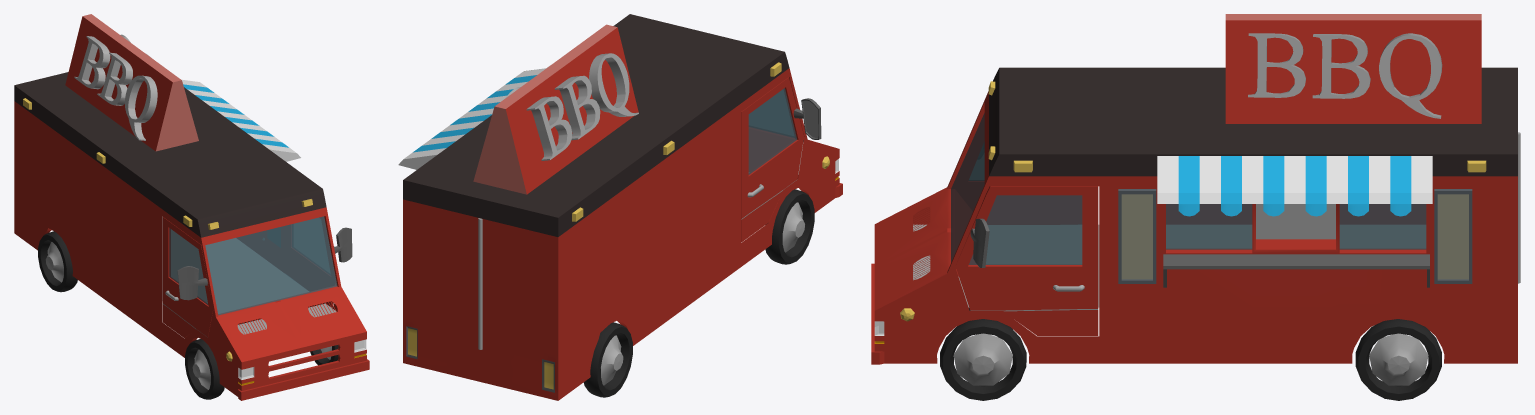
File: BBQ.fbx
The picture shows the model from 3 angles, left to right: view 1: azimuth 30°, elevation 25°; view 2: azimuth 150°, elevation 25°; view 3: azimuth 270°, elevation 25°; orthographic projection. The views are drawn at different scales.
Parts seen in each view (by area): view 1: polySurface34; view 2: polySurface34; view 3: polySurface34.
Part boxes in pixels (x1,y1,x2,y2): polySurface34: (14, 14, 369, 400); polySurface34: (398, 14, 842, 400); polySurface34: (871, 14, 1520, 400).
Bounding box in the file's own units: 2.98 × 3.65 × 6.34.
